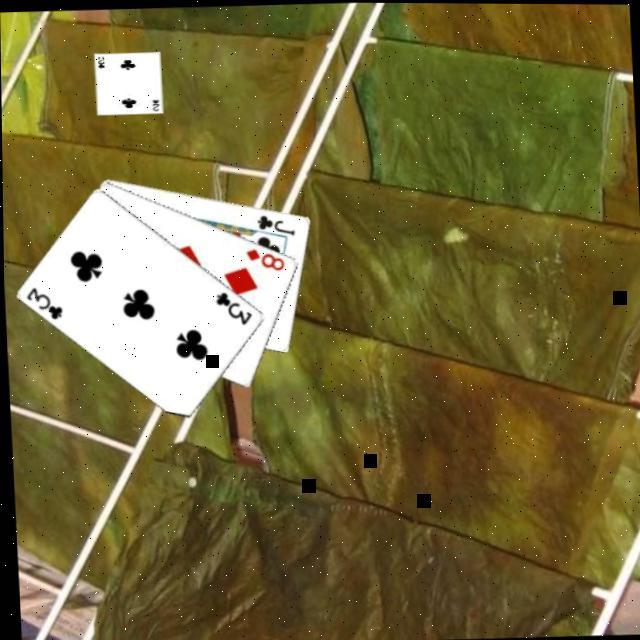3C: (210, 285, 252, 326), (19, 281, 62, 321)
8D: (238, 242, 284, 272)
JC: (252, 208, 296, 236)
